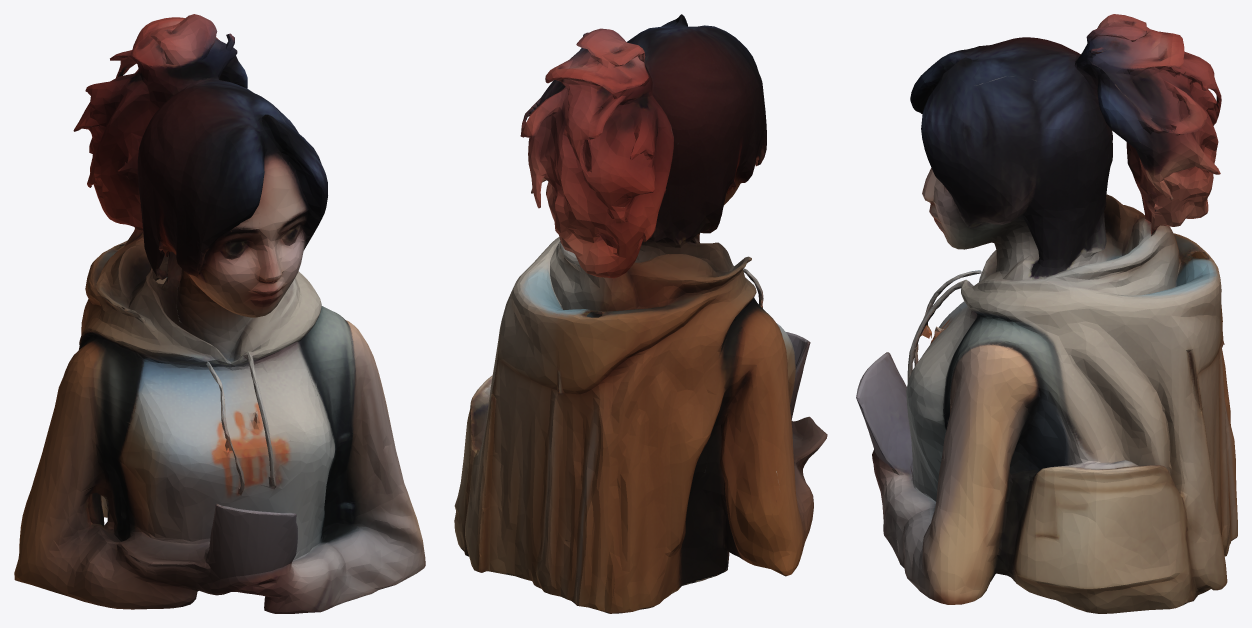
Rendered from student-female.glb.
3 views of the same model, side by side, from view 1: azimuth 30°, elevation 25°; view 2: azimuth 150°, elevation 25°; view 3: azimuth 270°, elevation 25° (orthographic).
Parts seen in each view (by area): view 1: world; view 2: world; view 3: world.
Boxes of the visible parts, box(x1,y1,x2,y2) form: world: box(14, 14, 425, 613); world: box(454, 14, 827, 613); world: box(856, 14, 1237, 613).
Bounding box in the file's own units: 0.6428 × 0.9884 × 0.6385.
Materials: 1 (1 with a texture image).
